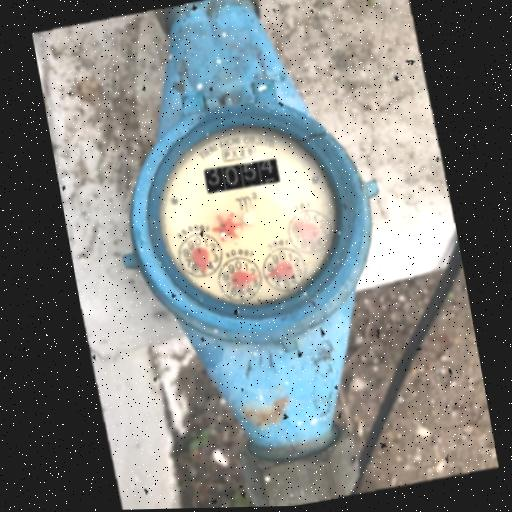0: (223, 165, 244, 190)
3: (204, 167, 226, 194)
4: (258, 158, 279, 185)
5: (241, 162, 262, 187)
border_water_meter_number: (203, 157, 281, 194)
